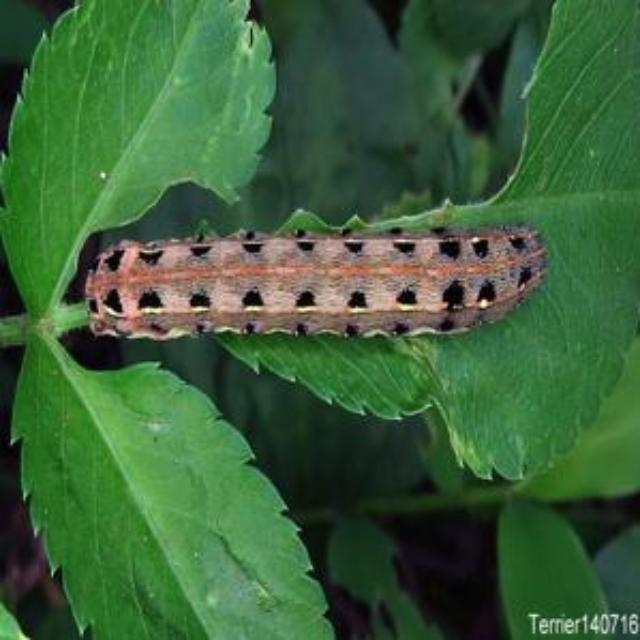Tobacco cutworm: (64, 187, 564, 401)
